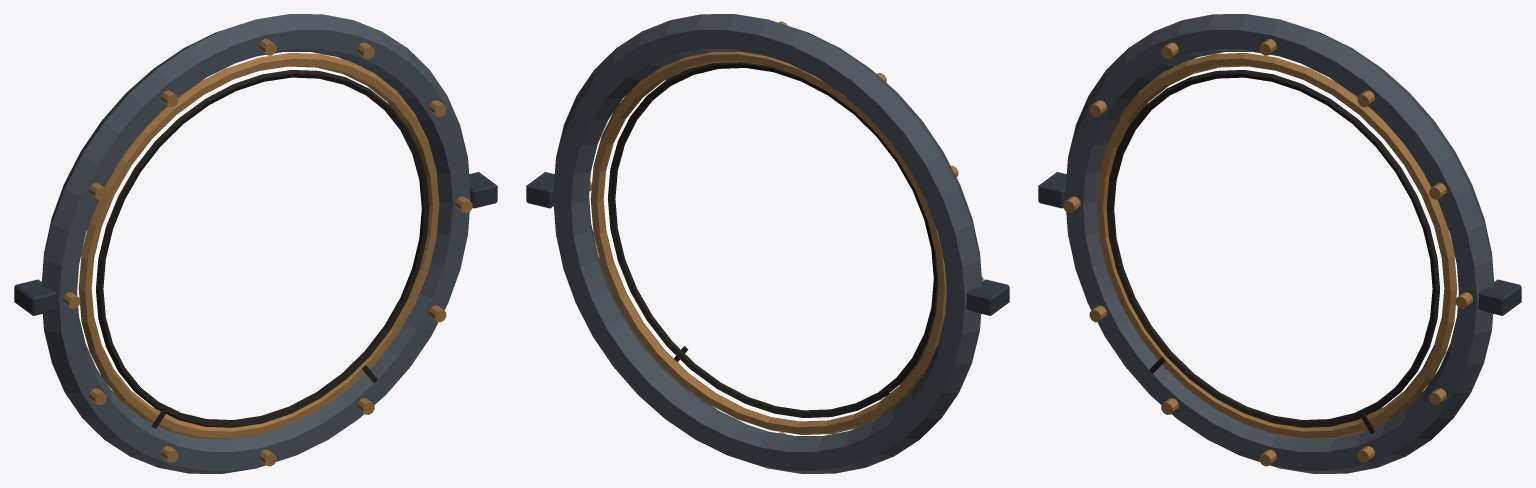
The model's file is runtime.glb.
3 renders of one model, left to right at view 1: azimuth 30°, elevation 25°; view 2: azimuth 150°, elevation 25°; view 3: azimuth 330°, elevation 25°, orthographic.
Visible parts, largest first — view 1: kinetic-tide-bearing-flange-v01_plate_nocol, kinetic-tide-bearing-flange-v01_bronze_nocol, kinetic-tide-bearing-flange-v01_weardark_nocol, kinetic-tide-bearing-flange-v01_steel_nocol; view 2: kinetic-tide-bearing-flange-v01_plate_nocol, kinetic-tide-bearing-flange-v01_bronze_nocol, kinetic-tide-bearing-flange-v01_weardark_nocol, kinetic-tide-bearing-flange-v01_steel_nocol; view 3: kinetic-tide-bearing-flange-v01_plate_nocol, kinetic-tide-bearing-flange-v01_bronze_nocol, kinetic-tide-bearing-flange-v01_weardark_nocol, kinetic-tide-bearing-flange-v01_steel_nocol.
Part boxes in pixels (box(x1,y1,x2,y2)): kinetic-tide-bearing-flange-v01_plate_nocol: box(42, 14, 470, 473); kinetic-tide-bearing-flange-v01_bronze_nocol: box(63, 39, 472, 466); kinetic-tide-bearing-flange-v01_weardark_nocol: box(96, 70, 429, 428); kinetic-tide-bearing-flange-v01_steel_nocol: box(14, 172, 497, 315); kinetic-tide-bearing-flange-v01_plate_nocol: box(553, 14, 981, 473); kinetic-tide-bearing-flange-v01_bronze_nocol: box(589, 21, 984, 434); kinetic-tide-bearing-flange-v01_weardark_nocol: box(608, 62, 938, 417); kinetic-tide-bearing-flange-v01_steel_nocol: box(526, 172, 1009, 315); kinetic-tide-bearing-flange-v01_plate_nocol: box(1065, 14, 1493, 473); kinetic-tide-bearing-flange-v01_bronze_nocol: box(1063, 39, 1472, 466); kinetic-tide-bearing-flange-v01_weardark_nocol: box(1106, 70, 1439, 433); kinetic-tide-bearing-flange-v01_steel_nocol: box(1038, 172, 1521, 315).
Size of the model in its own units: 8.69 by 8 by 0.7916.
